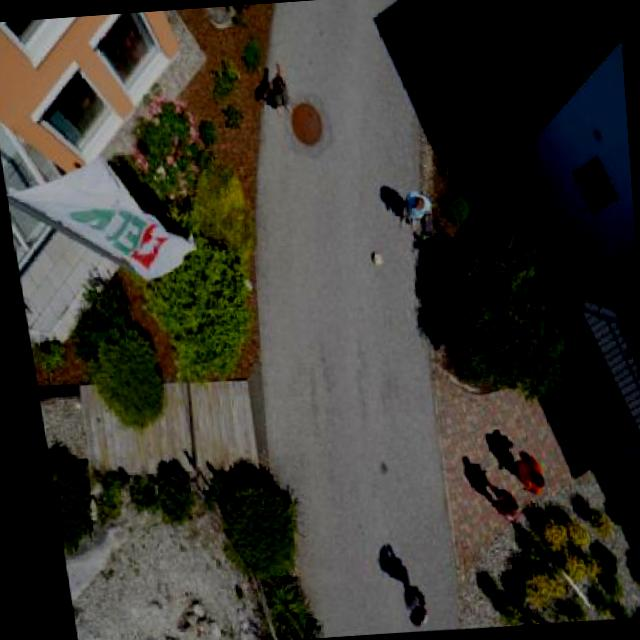Person: (376, 570, 424, 634), (499, 444, 549, 501), (390, 183, 442, 234), (259, 53, 296, 124), (467, 480, 516, 523)
